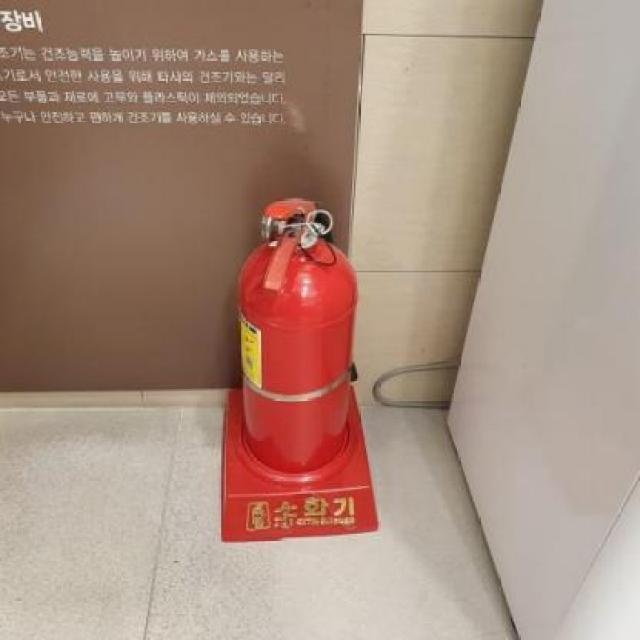fire extinguisher: (237, 198, 358, 473)
